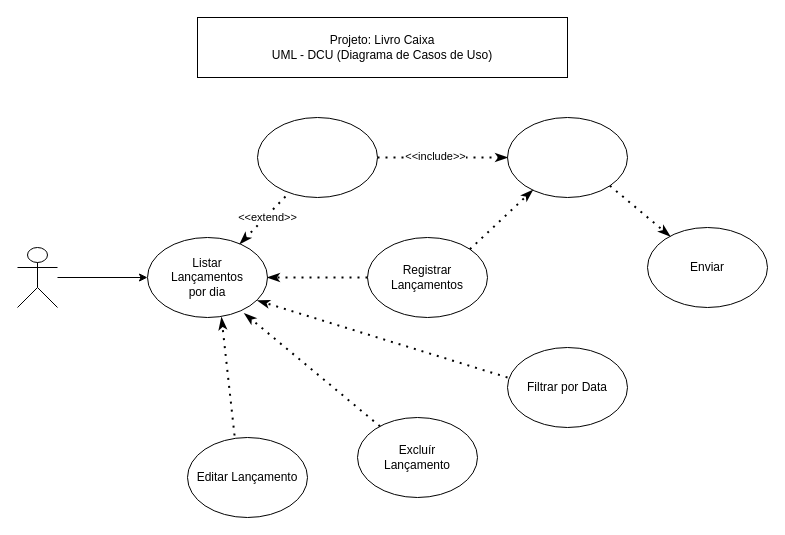
This 785x535 diagram has some shape labels left out. Each missing label, with the box of its shape:
Cadastrar Usuário: (256, 116, 378, 198)
Preencher Dados Obrigatórios: (506, 116, 628, 198)
Usuario: (16, 246, 58, 308)
